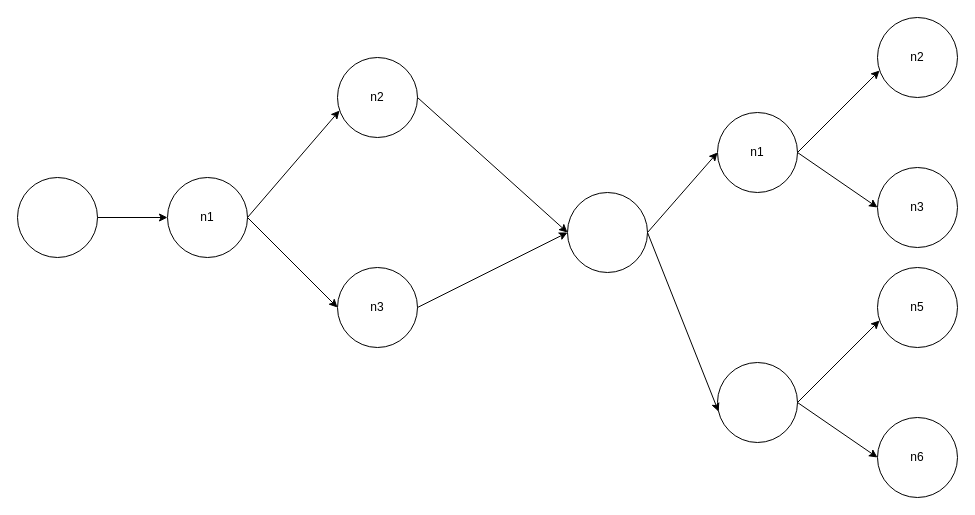
Some shapes in this 975 by 515 pixel diagram are drawn without their labels. Here are the shapes that lost their labels. From the top down, the box of each, then its label:
(16, 176, 98, 258): SDE
(566, 192, 648, 272): SDEVICE
(716, 362, 798, 442): n4
